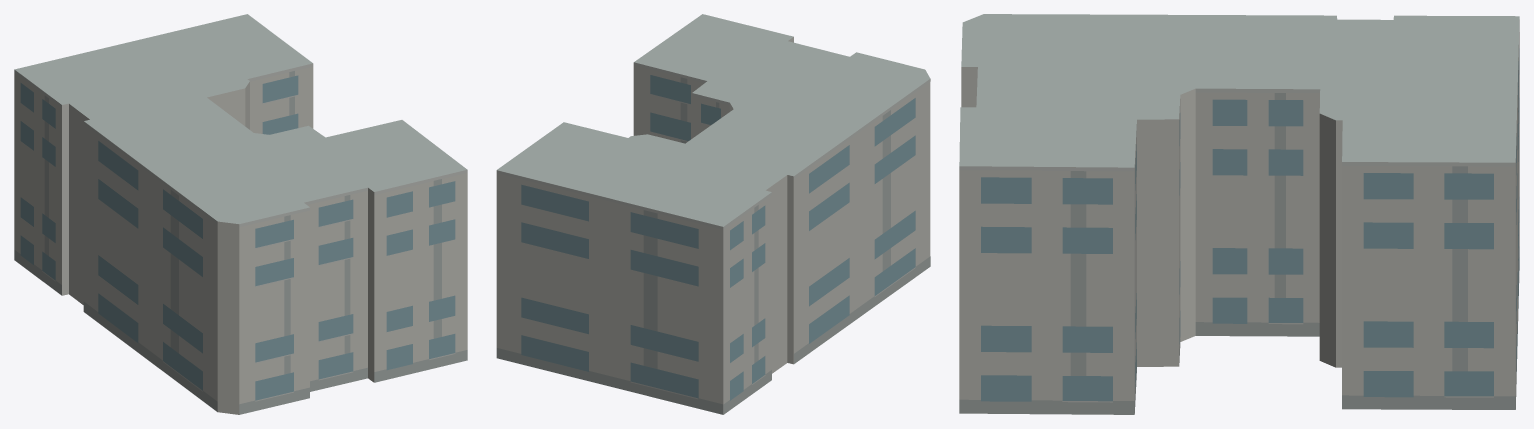
File: survey-upis-32916541.glb
3 views of the same model, side by side, from view 1: azimuth 30°, elevation 25°; view 2: azimuth 150°, elevation 25°; view 3: azimuth 270°, elevation 25° (orthographic). The views are drawn at different scales.
Visible parts, largest first — view 1: survey-upis-32916541.tmp; view 2: survey-upis-32916541.tmp; view 3: survey-upis-32916541.tmp.
Boxes of the visible parts, x1,y1,x2,y2 form: survey-upis-32916541.tmp: (14,14,467,414); survey-upis-32916541.tmp: (496,14,930,414); survey-upis-32916541.tmp: (959,14,1519,414).
Size of the model in its own units: 20.32 by 15.25 by 31.32.
